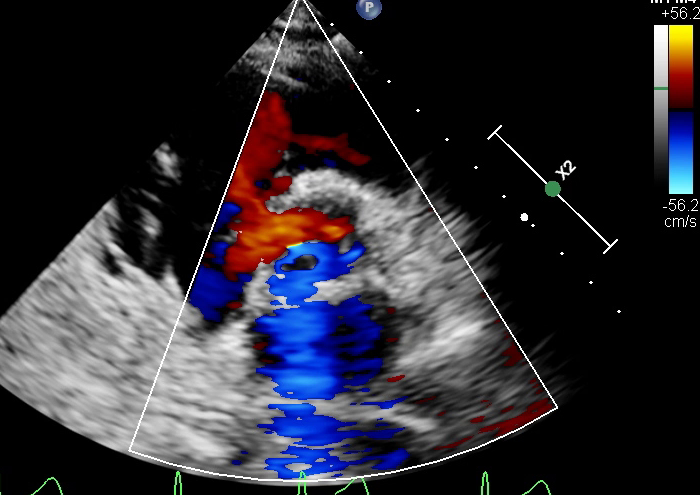TR: (219, 213, 283, 354)
